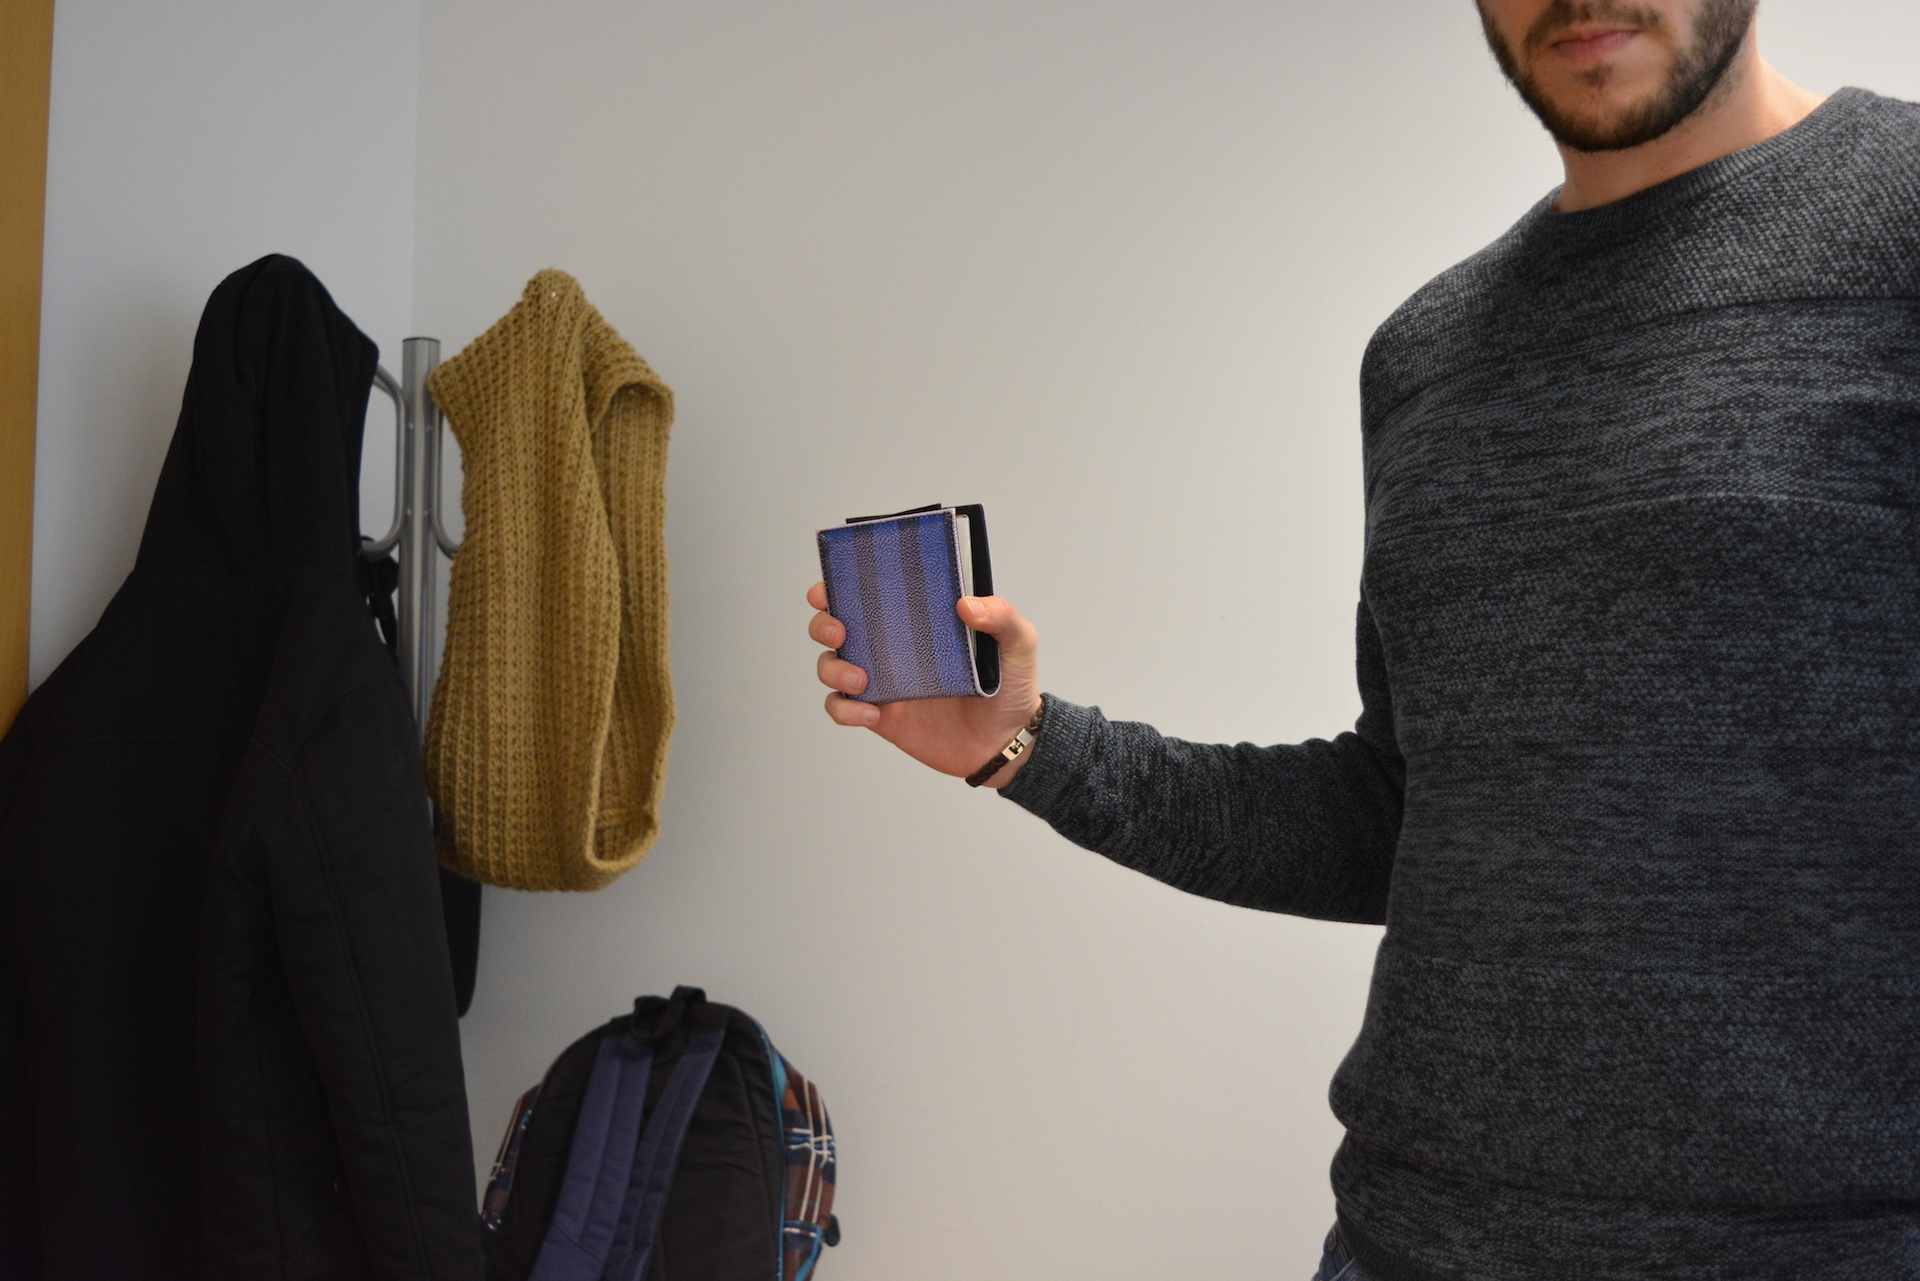monedero: (813, 500, 1004, 708)
